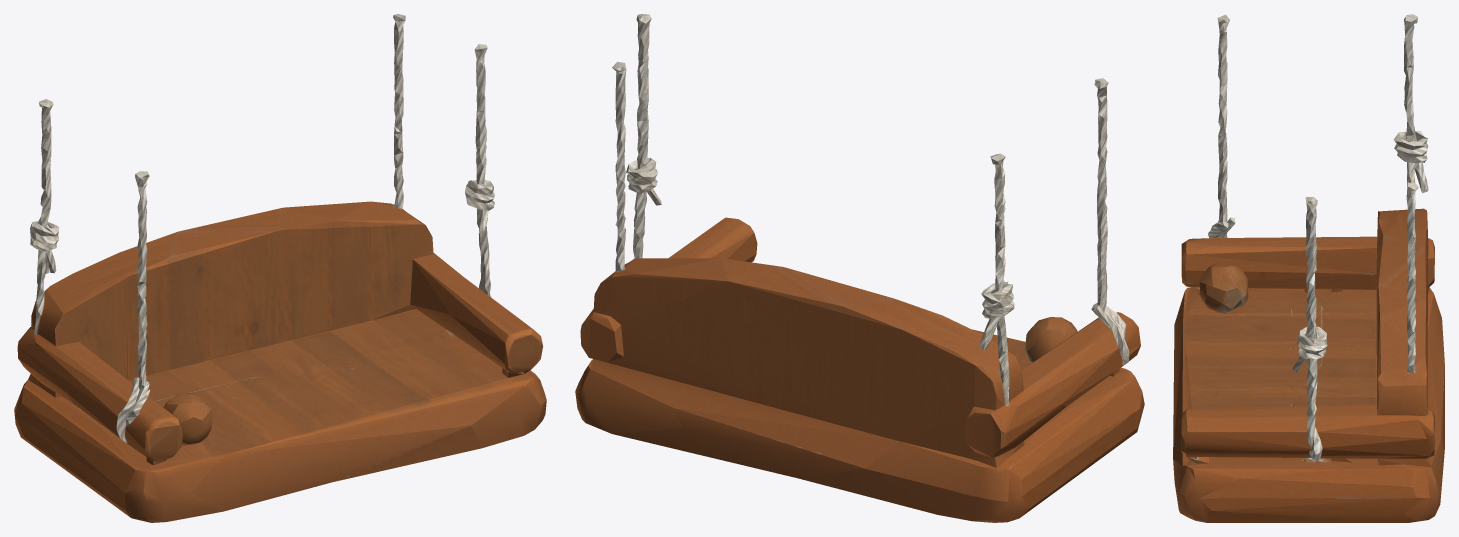
The model's file is tree_swing.glb.
3 renders of one model, left to right at view 1: azimuth 30°, elevation 25°; view 2: azimuth 150°, elevation 25°; view 3: azimuth 270°, elevation 25°, orthographic. The views are drawn at different scales.
Size of the model in its own units: 1.9 by 1.45 by 1.09.
1 material, 1 textured.
